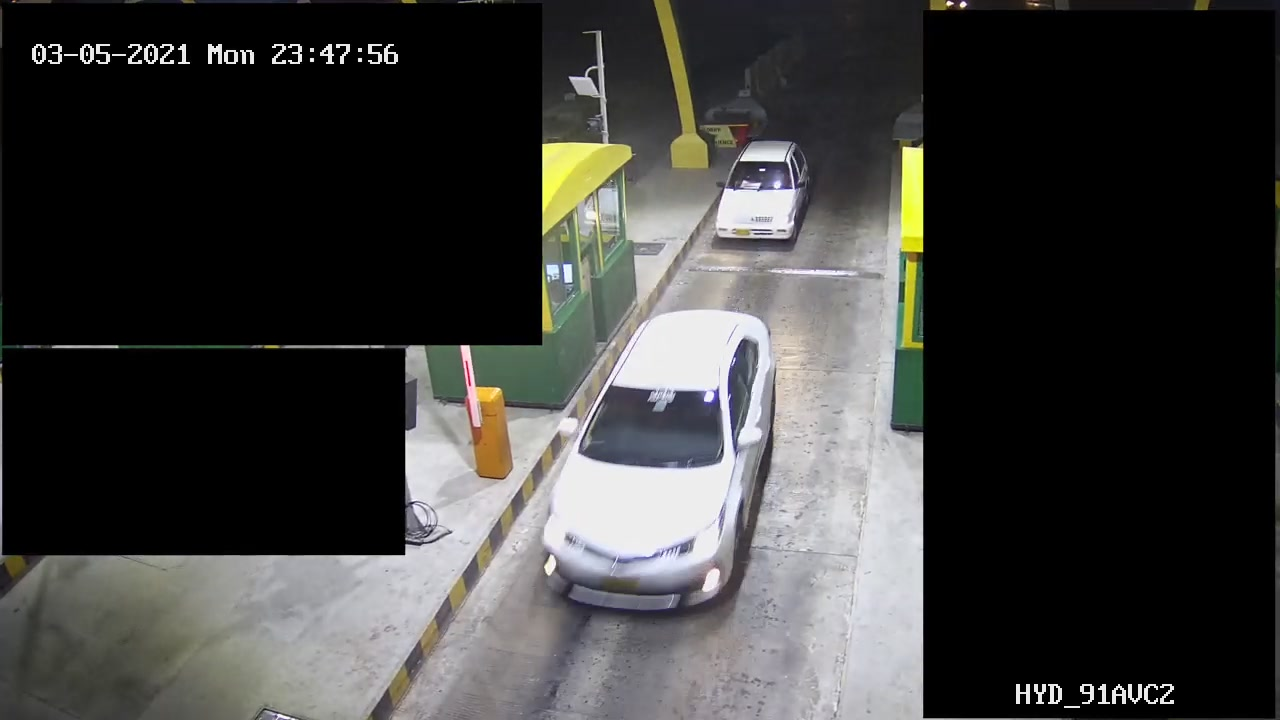F1: (540, 301, 783, 629), (706, 131, 821, 249)
